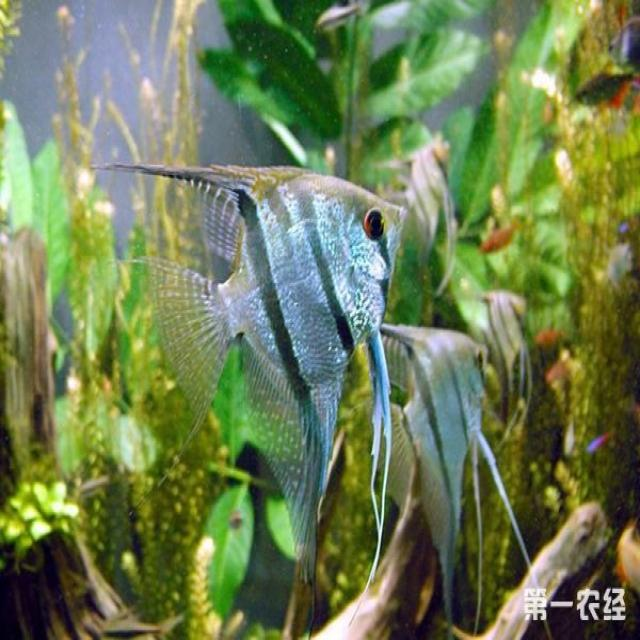AngelFish: (94, 158, 410, 618), (380, 306, 490, 637), (401, 134, 461, 291), (485, 283, 543, 417)
